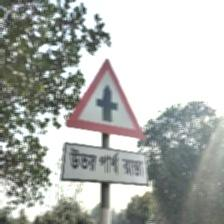Crossroad: (63, 58, 151, 191)
